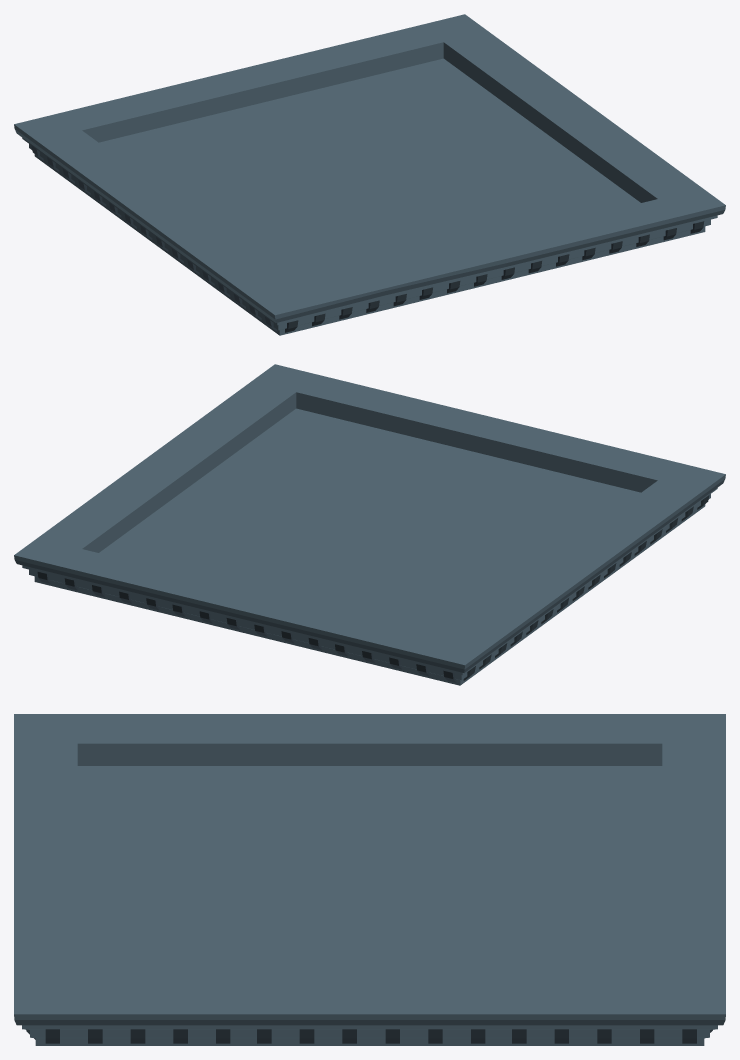
File: Apt1_Roof.fbx
The picture shows the model from 3 angles, top to bottom: view 1: azimuth 30°, elevation 25°; view 2: azimuth 150°, elevation 25°; view 3: azimuth 270°, elevation 25°; orthographic projection. The views are drawn at different scales.
Parts seen in each view (by area): view 1: Apt1_Roof; view 2: Apt1_Roof; view 3: Apt1_Roof.
Part boxes in pixels (<box>): Apt1_Roof: <box>14,14,725,335</box>; Apt1_Roof: <box>14,364,725,685</box>; Apt1_Roof: <box>14,714,725,1045</box>.
Size of the model in its own units: 1621 by 101 by 1625.
